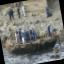fishing boat: (3, 29, 64, 58)
